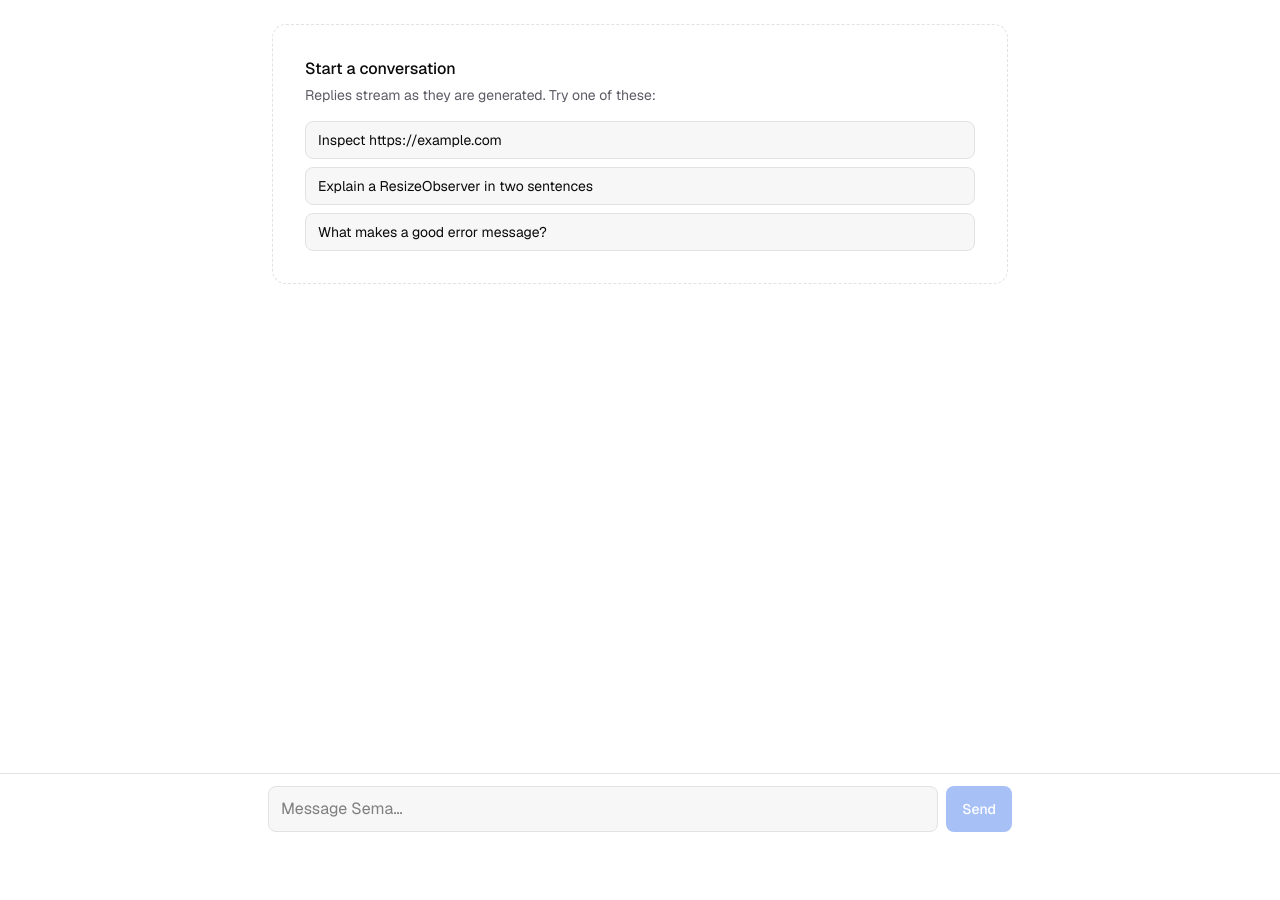
it: Chat — streaming state › renders the user message immediately and the reply as it arrives
Step 1. Type "hello" into the field labelled "Message Sema" → (603,809), box [268,786,938,832]
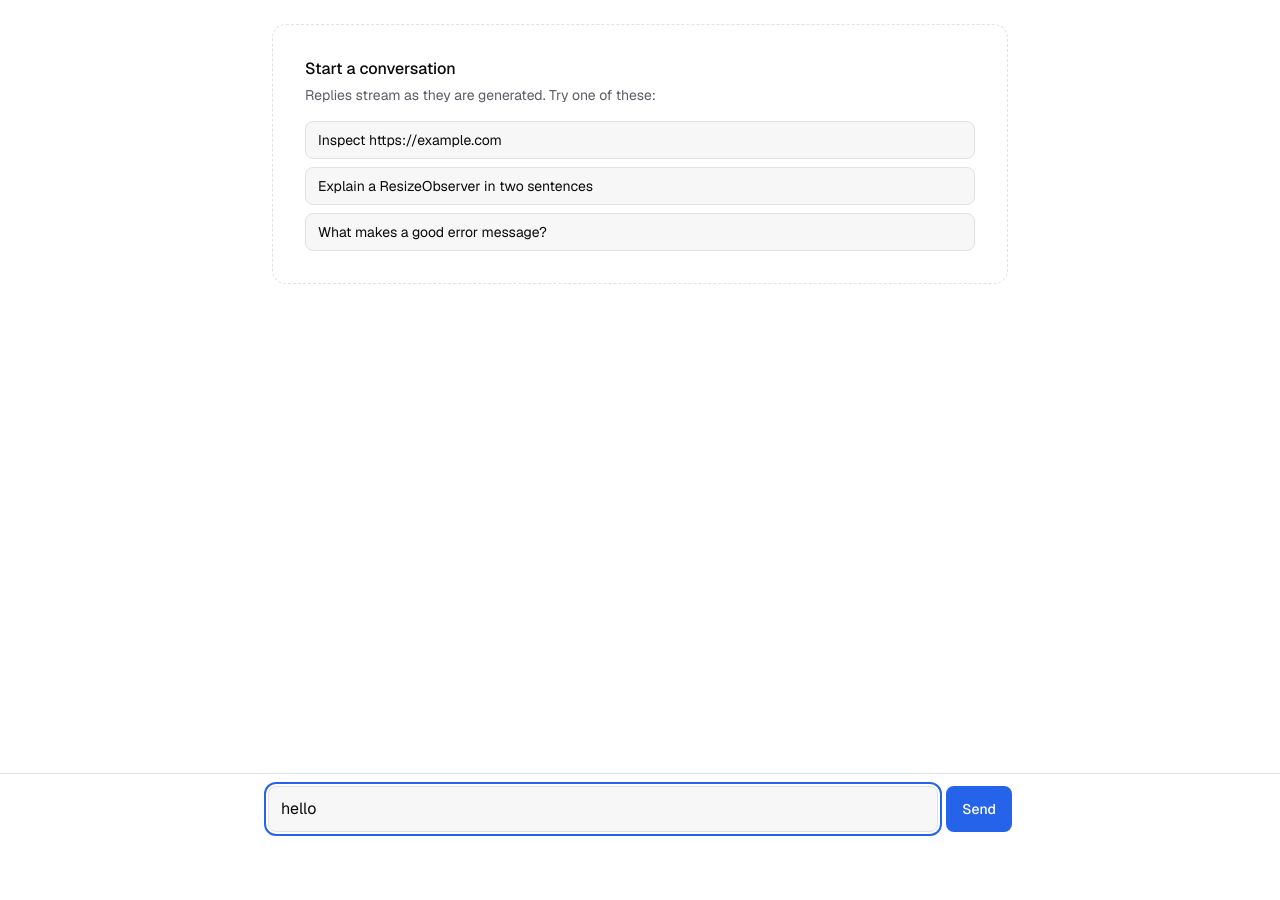
Step 2. Click the button "Send" → (979,809), box [946,786,1012,832]
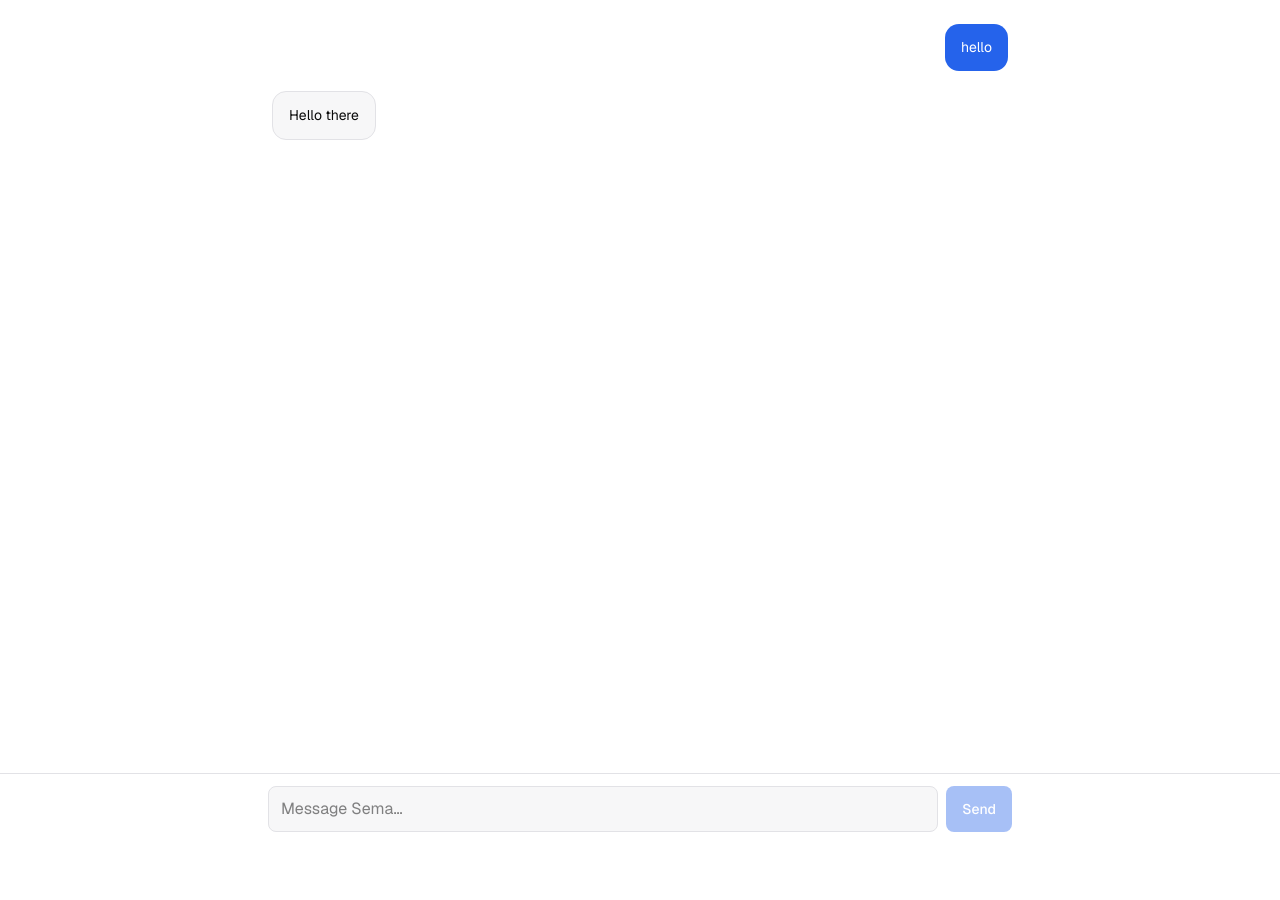
Check: the text "hello" is shown, box [961,36,992,59]
Check: the text "Hello there" is shown, box [289,104,359,127]
